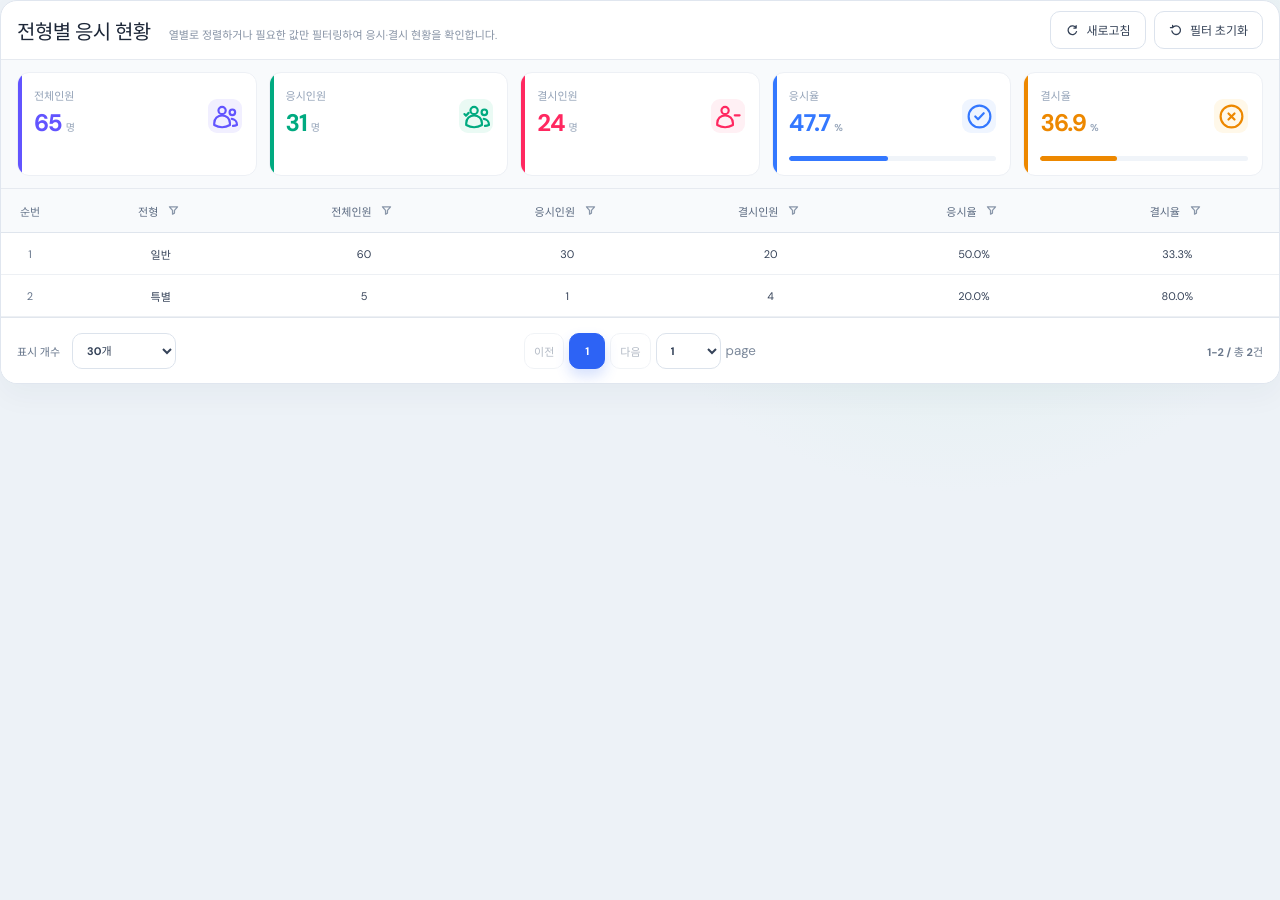
Test: AttendanceStatusPage › recalculates weighted cards from column filters and resets filters without a search field
The image size is (1280, 900).
Check: the text "전체인원" shows "65명", box [17, 72, 257, 176]
Check: the text "응시인원" shows "31명", box [269, 72, 508, 176]
Click the button named "전형 필터".
click(173, 210)  # box [161, 196, 185, 224]
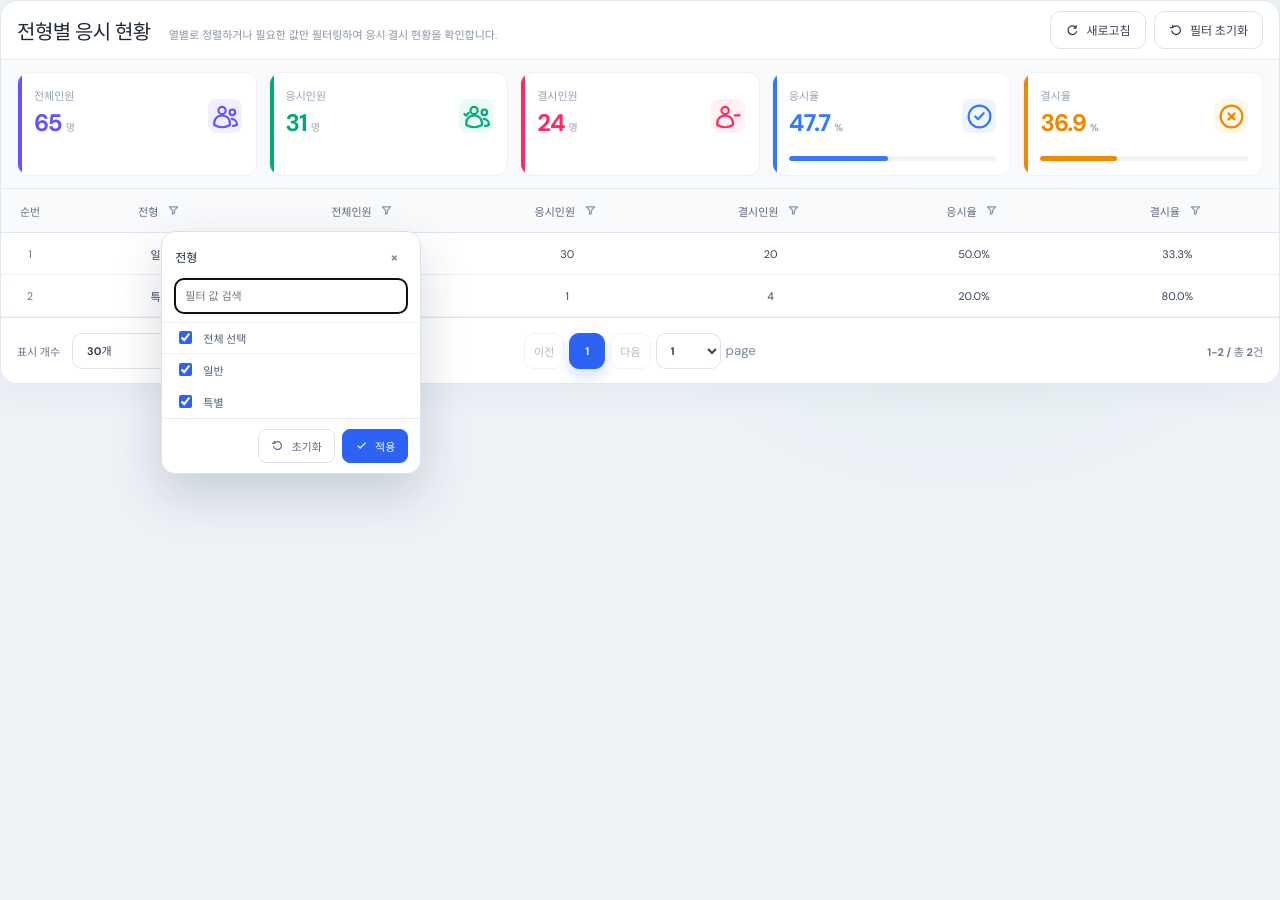
Click the checkbox labelled "일반".
click(186, 370)  # box [179, 363, 192, 376]
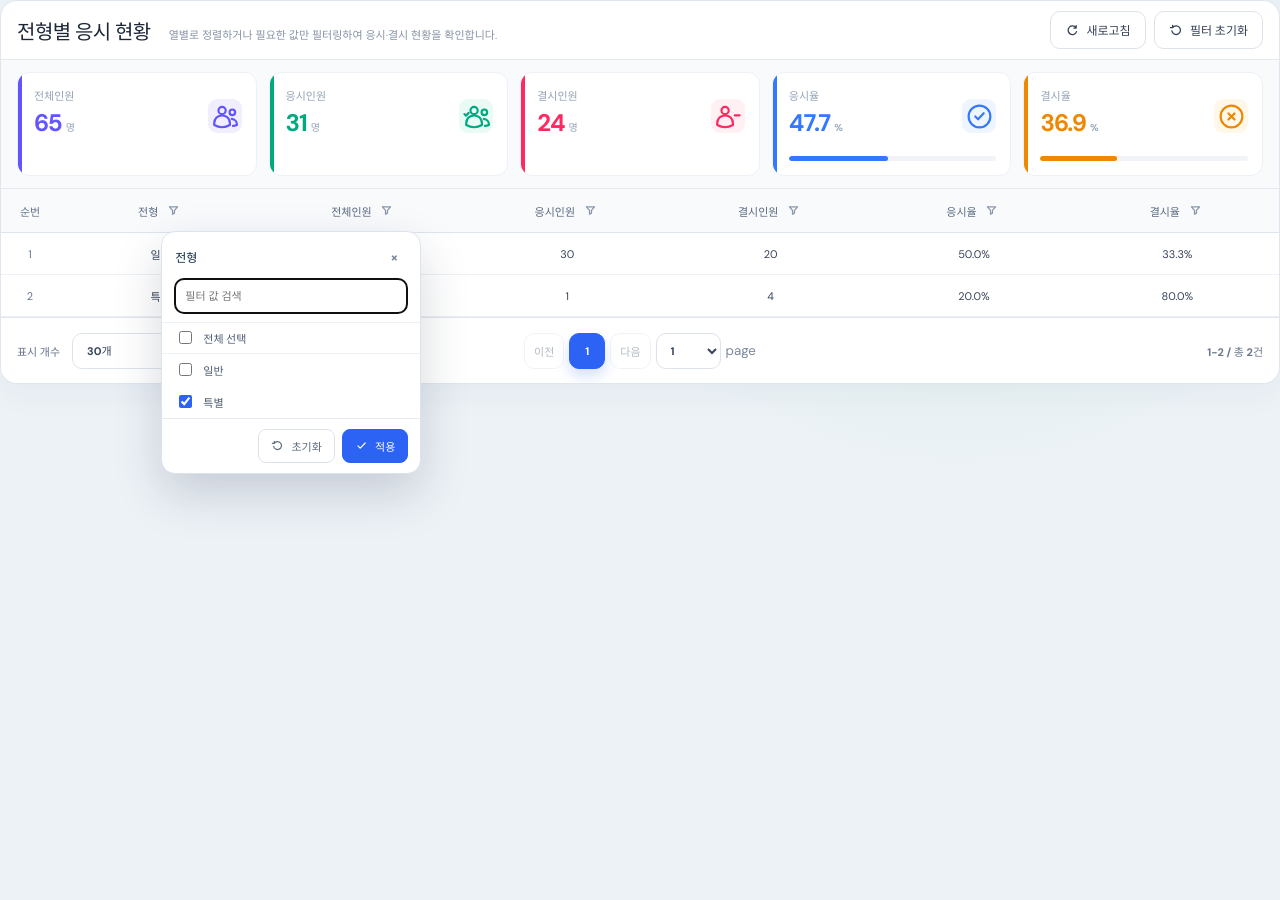
Click the button "적용".
click(375, 446)  # box [342, 428, 408, 462]
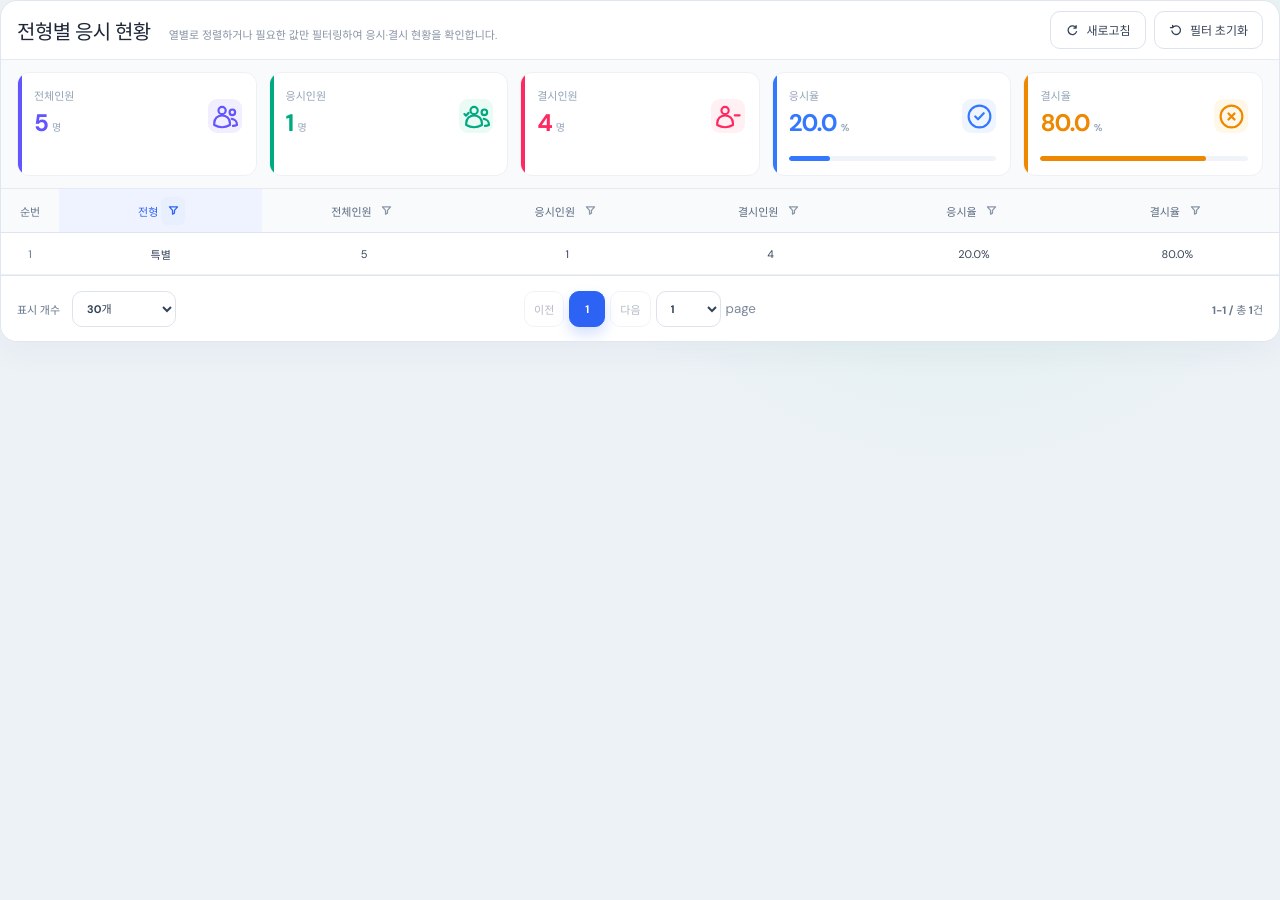
Check: the text "전체인원" shows "5명", box [17, 72, 257, 176]
Check: the text "응시율" shows "20.0%", box [772, 72, 1011, 176]
Check: the text "결시율" shows "80.0%", box [1023, 72, 1263, 176]
Click the button "필터 초기화".
click(1208, 30)  # box [1154, 11, 1263, 49]
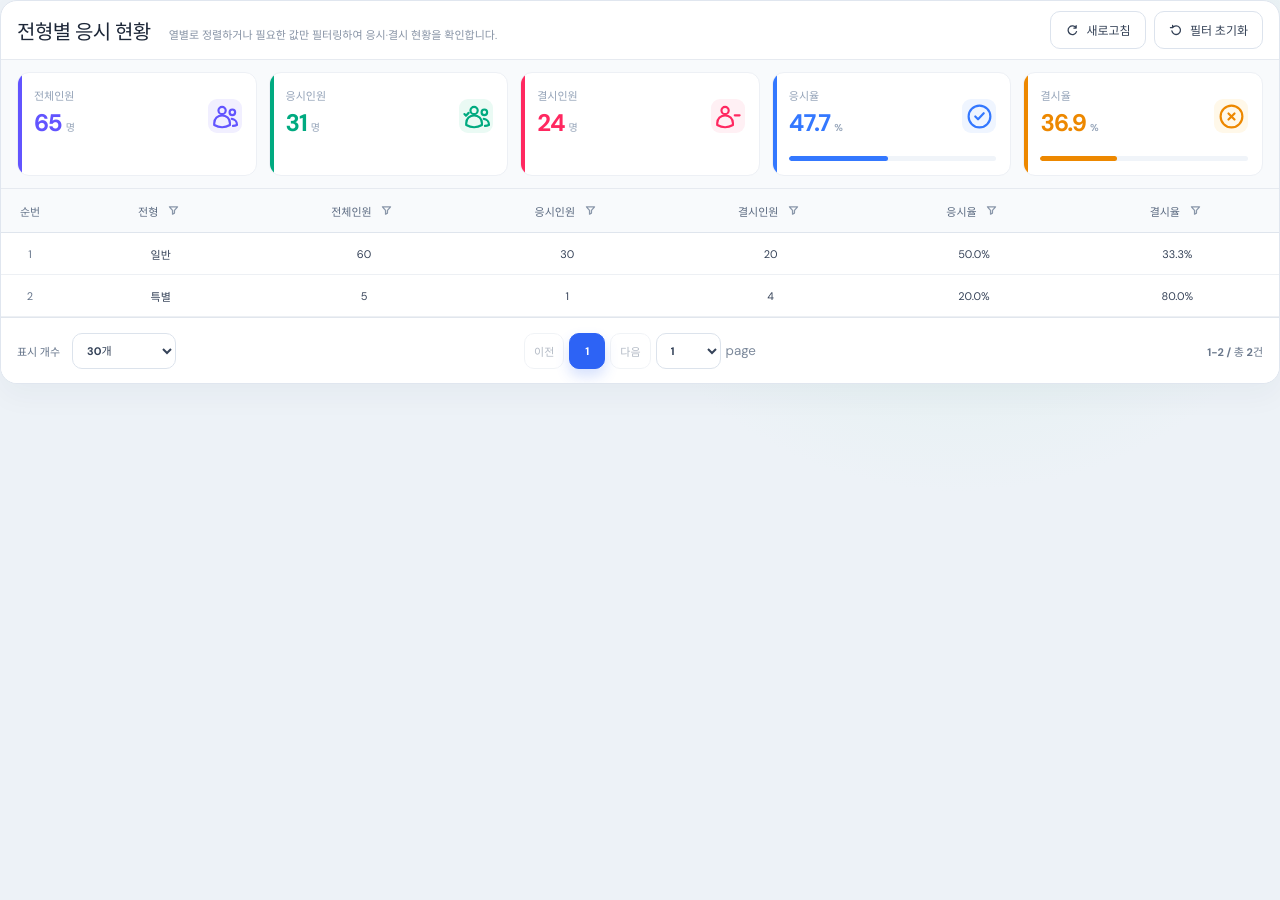
Check: the text "전체인원" shows "65명", box [17, 72, 257, 176]
